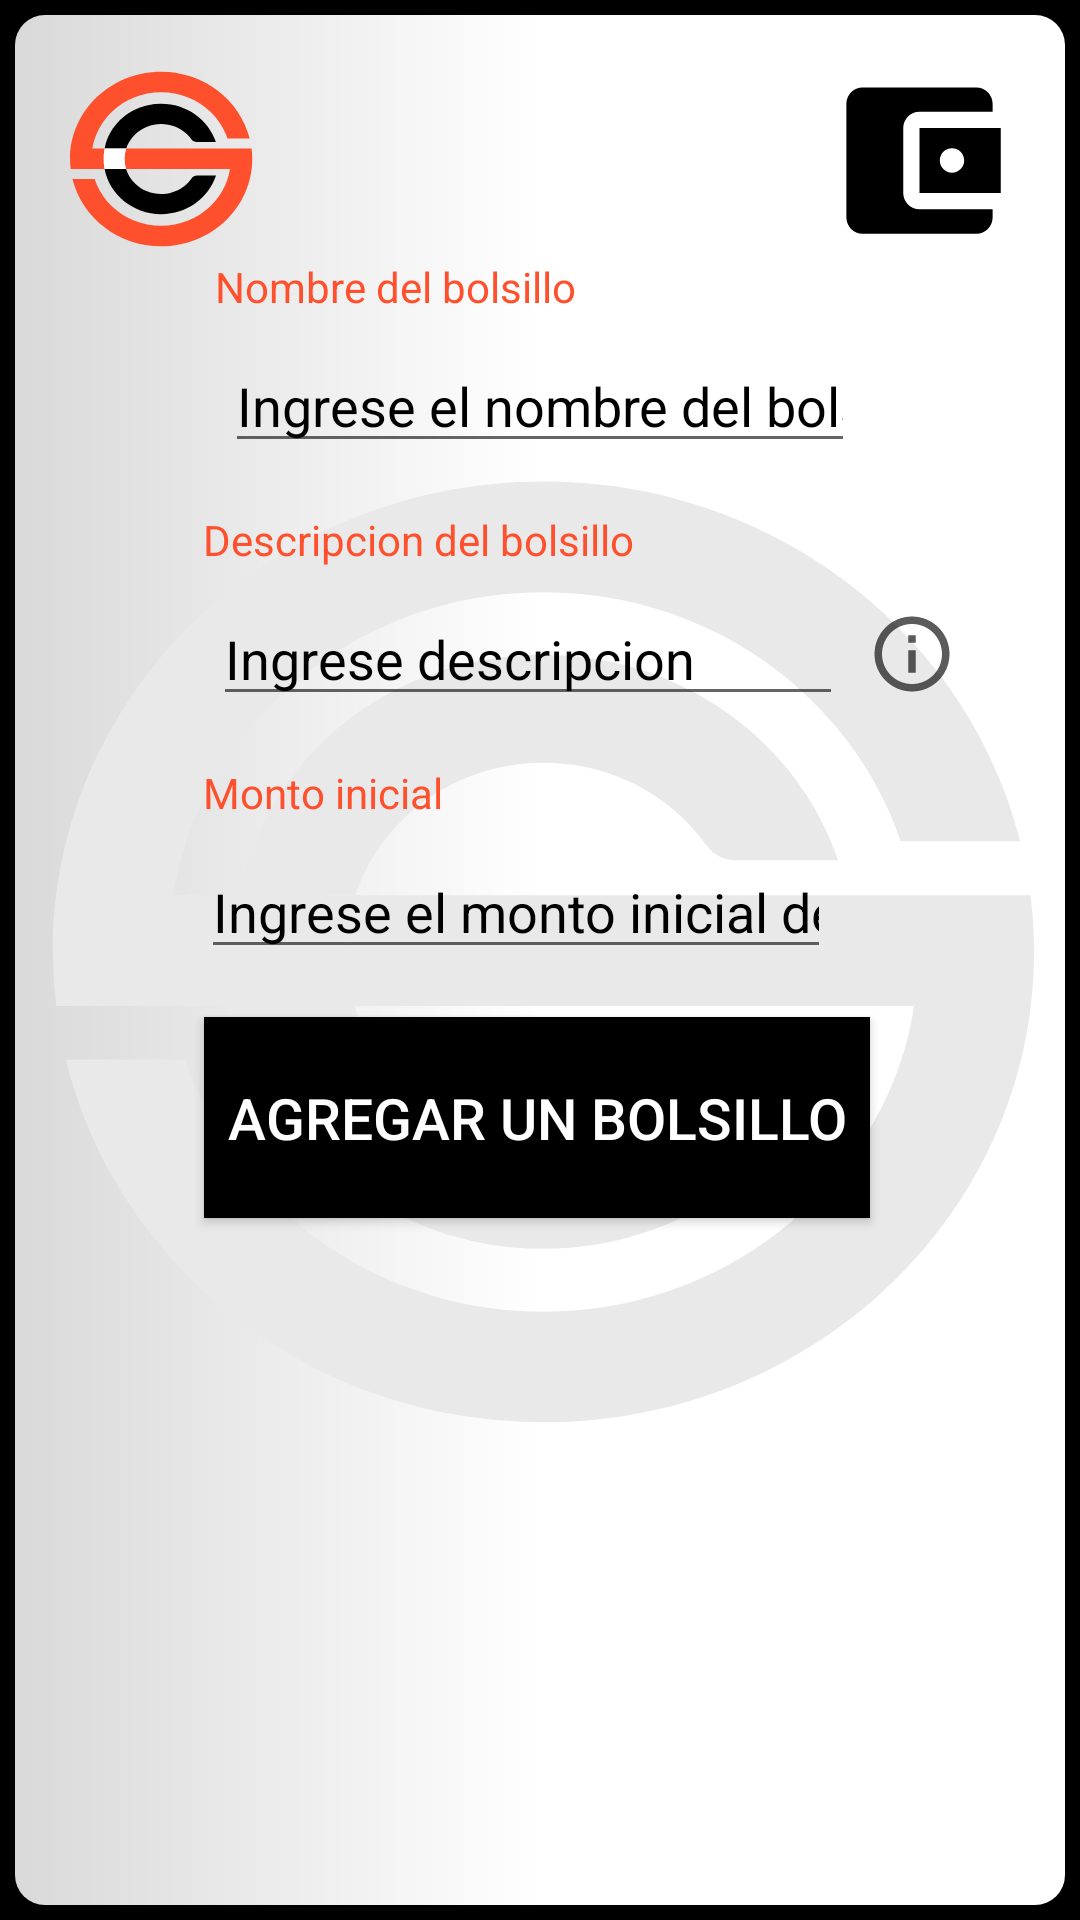

Icon bounding boxes for this 1080×1920 phone screenshot, format bbox(x1, y1, x2, y2):
info: bbox(874, 616, 950, 692)
